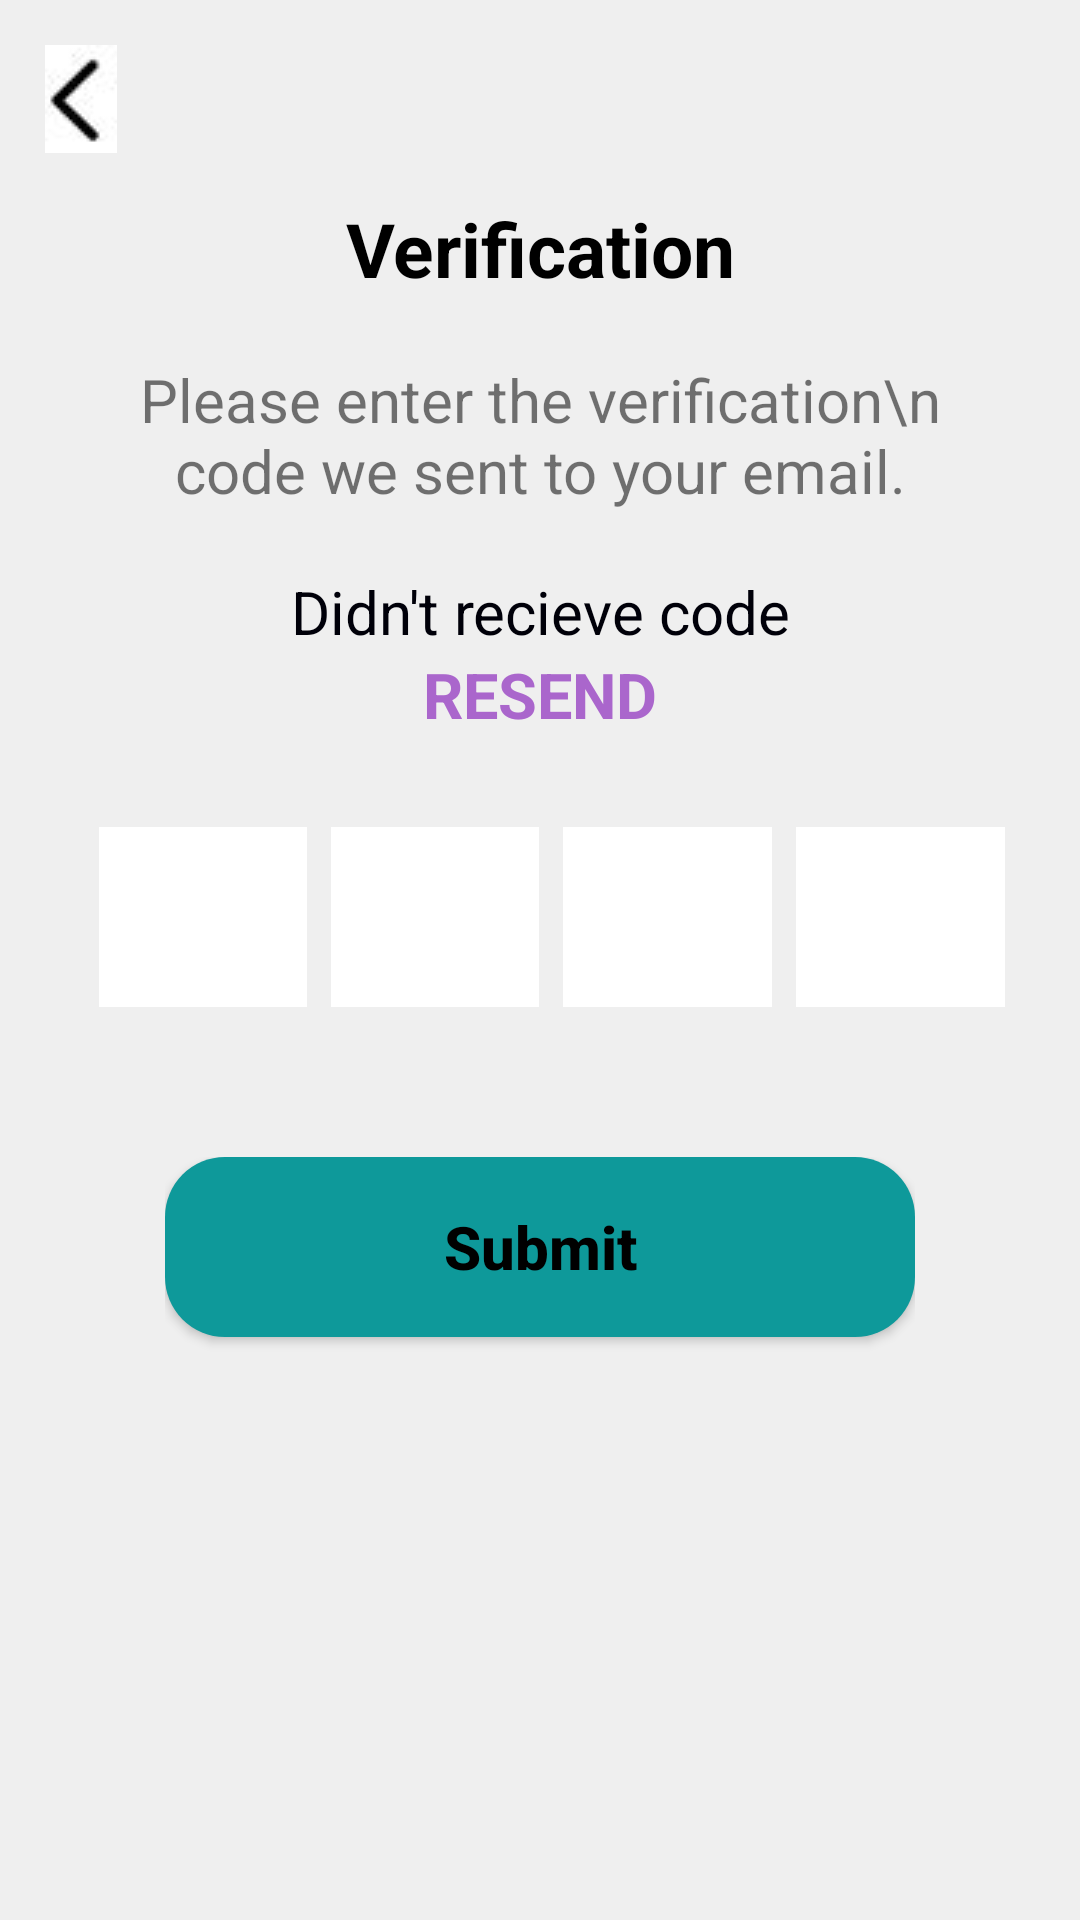

Point at icon controls on the screen. Image size 1080x1920, points as (x=x, y=y).
backicon: (x=81, y=99)
